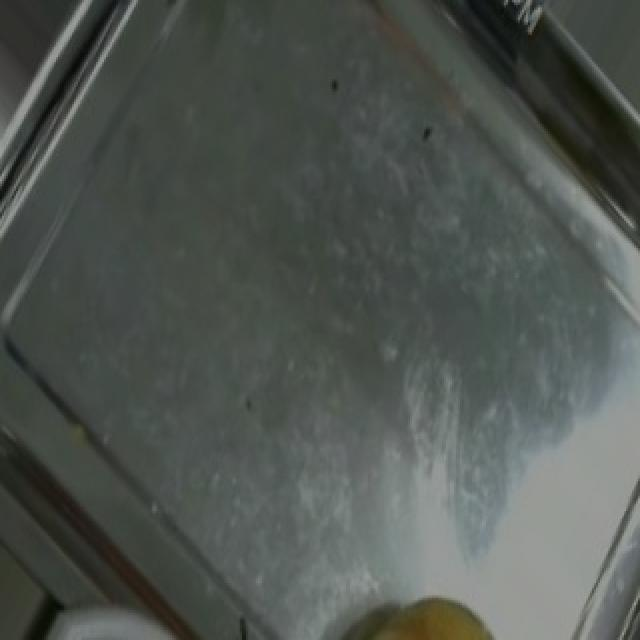fruit: (328, 573, 538, 640)
